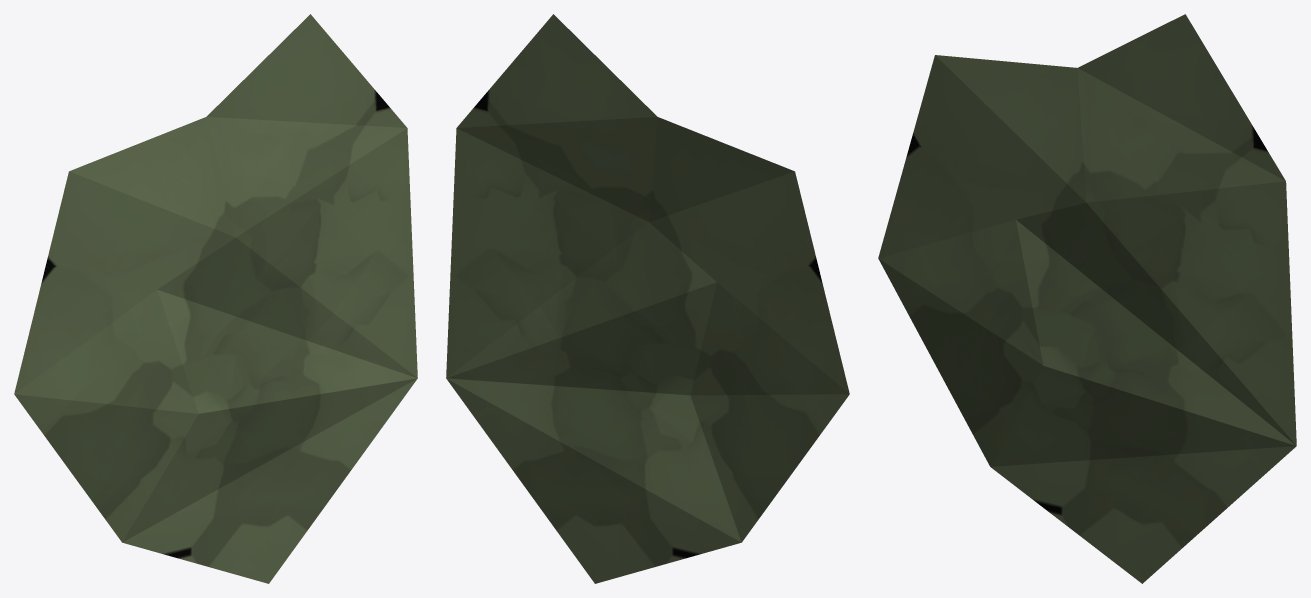
The model's file is SM_Gen_Env_Ivy_04.gltf.
3 renders of one model, left to right at view 1: azimuth 30°, elevation 25°; view 2: azimuth 150°, elevation 25°; view 3: azimuth 330°, elevation 25°, orthographic. The views are drawn at different scales.
Visible parts, largest first — view 1: SM_Gen_Env_Ivy_04; view 2: SM_Gen_Env_Ivy_04; view 3: SM_Gen_Env_Ivy_04.
Part boxes in pixels (bbox=[...]): SM_Gen_Env_Ivy_04: bbox=[14, 14, 417, 583]; SM_Gen_Env_Ivy_04: bbox=[446, 14, 849, 583]; SM_Gen_Env_Ivy_04: bbox=[878, 14, 1296, 583].
Size of the model in its own units: 1.17 by 1.55 by 0.0633.
Materials: 1 (1 with a texture image).
